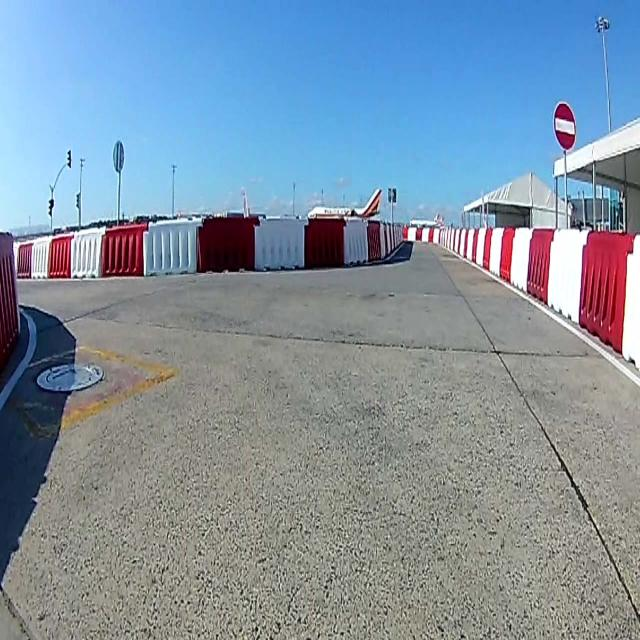girisyok: (554, 98, 576, 154)
